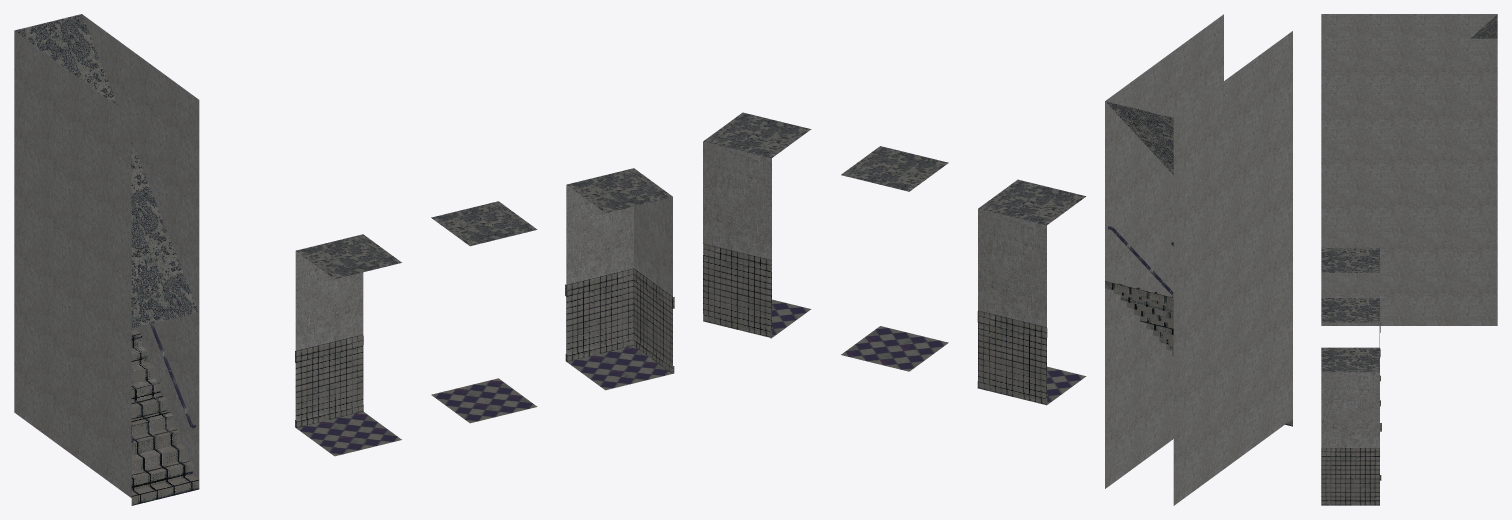
The model's file is corridor_tileset.glb.
3 renders of one model, left to right at view 1: azimuth 30°, elevation 25°; view 2: azimuth 150°, elevation 25°; view 3: azimuth 270°, elevation 25°, orthographic. The views are drawn at different scales.
Parts seen in each view (by area): view 1: staircase-col, corner-col, wall-col, floor_and_cealing-col; view 2: staircase-col, wall-col, corner-col, floor_and_cealing-col; view 3: staircase-col, corner-col, wall-col, floor_and_cealing-col.
Boxes of the visible parts, x1,y1,x2,y2 form: staircase-col: [14, 14, 199, 505]; corner-col: [565, 168, 674, 390]; wall-col: [295, 234, 401, 456]; floor_and_cealing-col: [431, 201, 537, 423]; staircase-col: [1105, 14, 1292, 505]; wall-col: [977, 179, 1086, 405]; corner-col: [703, 112, 811, 338]; floor_and_cealing-col: [841, 146, 948, 371]; staircase-col: [1321, 14, 1497, 325]; corner-col: [1321, 347, 1381, 505]; wall-col: [1321, 248, 1380, 406]; floor_and_cealing-col: [1321, 298, 1379, 322].
Bounding box in the file's own units: 8.02 × 5.5 × 3.
Materials: 5 (5 with a texture image).
